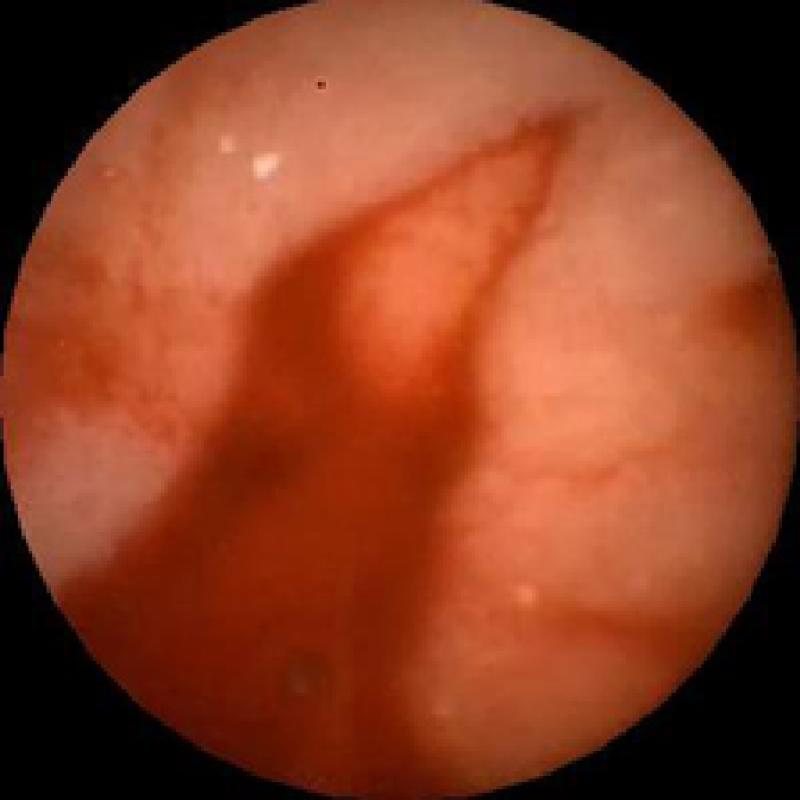bleeding: (125, 139, 514, 772), (540, 588, 661, 654)
